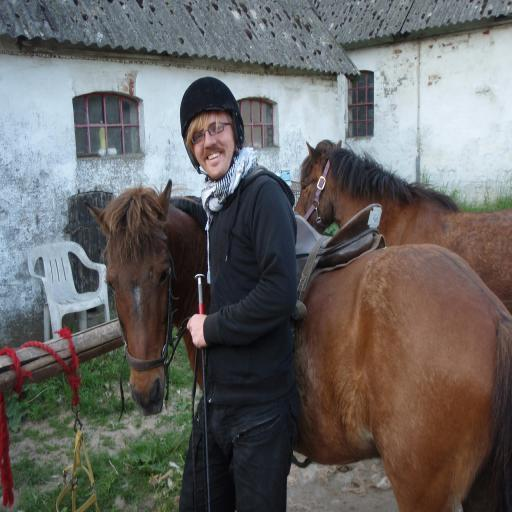horse: (82, 176, 512, 512), (294, 138, 512, 310)
